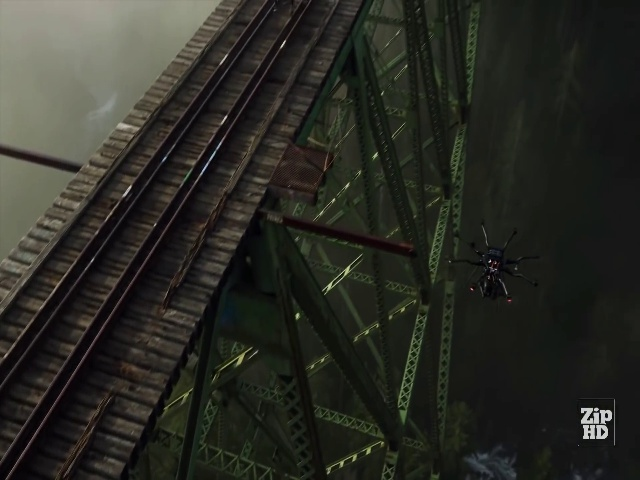drone: (441, 216, 545, 307)
